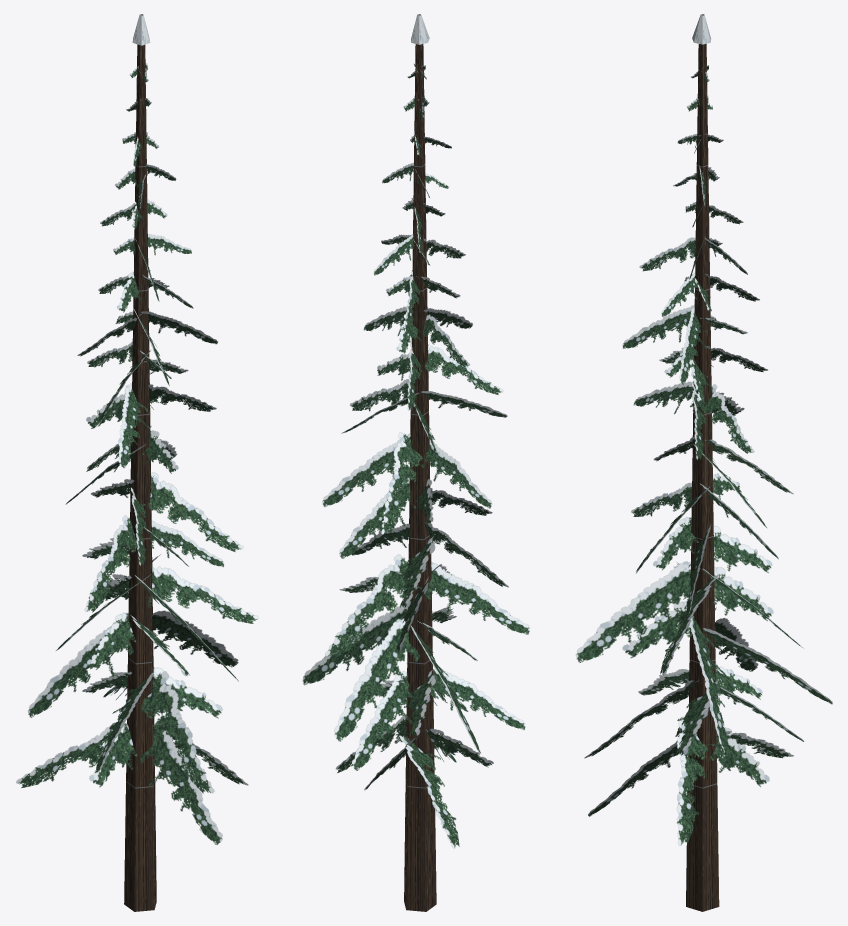
File: TallSpruce.glb
3 renders of one model, left to right at view 1: azimuth 30°, elevation 25°; view 2: azimuth 150°, elevation 25°; view 3: azimuth 270°, elevation 25°, orthographic.
Parts seen in each view (by area): view 1: TallSpruce; view 2: TallSpruce; view 3: TallSpruce.
Part boxes in pixels (x1,y1,x2,y2): TallSpruce: (16, 14, 258, 911); TallSpruce: (302, 14, 530, 911); TallSpruce: (575, 14, 832, 911).
Size of the model in its own units: 2.36 by 8.98 by 2.45.
Materials: 1 (1 with a texture image).
